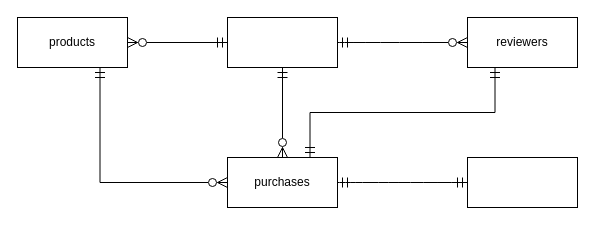
The diagram is 595 pixels wide and 225 high, and some of its shapes have lost their labels. The shapes that lost their labels are listed below. From the top down, each one's centre as x and y in pixels, then its label:
pixel 282 42: users
pixel 522 182: payments
